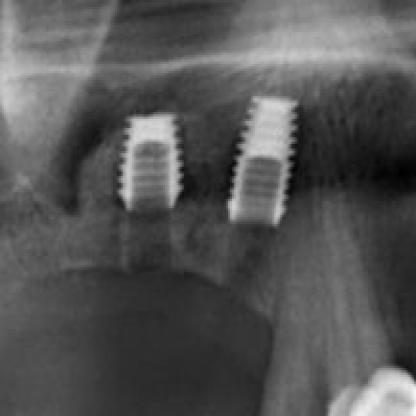Bicon: (226, 89, 297, 227), (115, 108, 188, 214)
